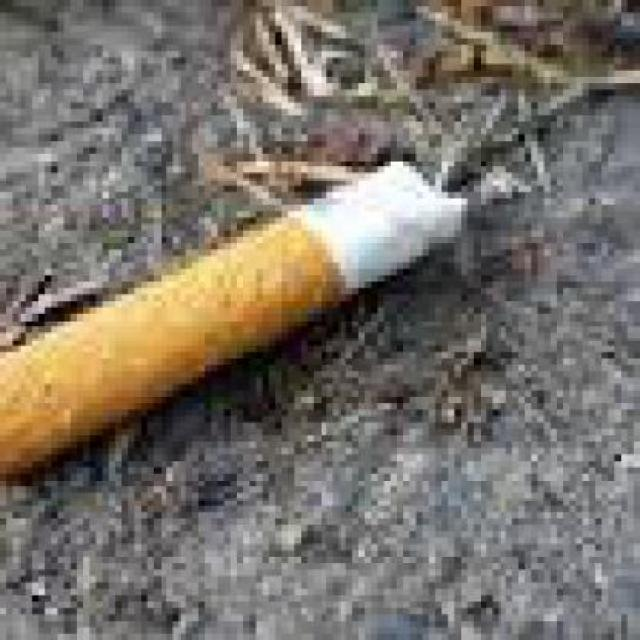cigarette: (0, 160, 506, 498)
